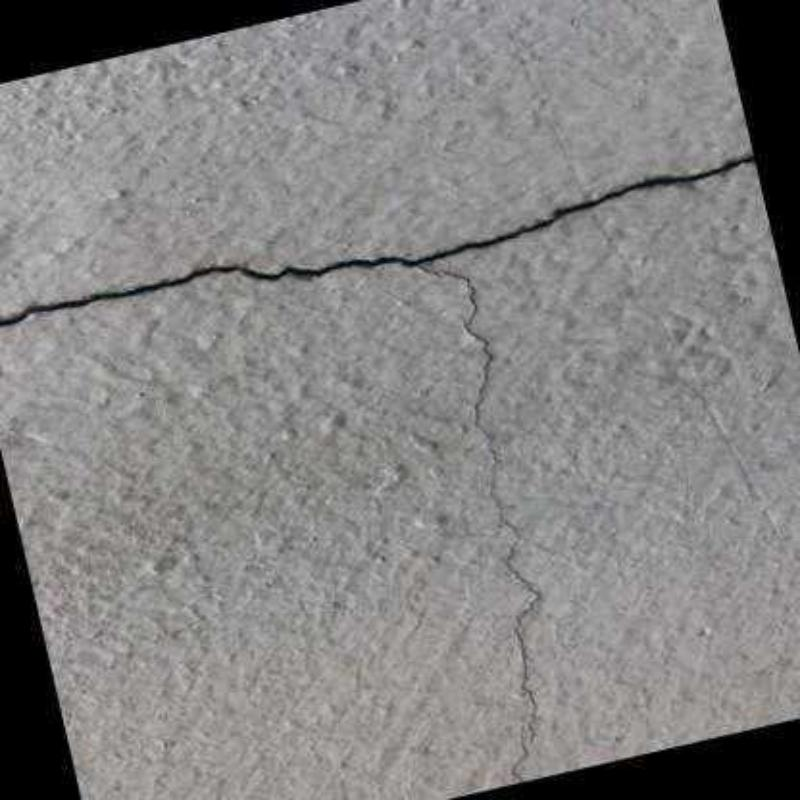pothole: (0, 154, 756, 784)
